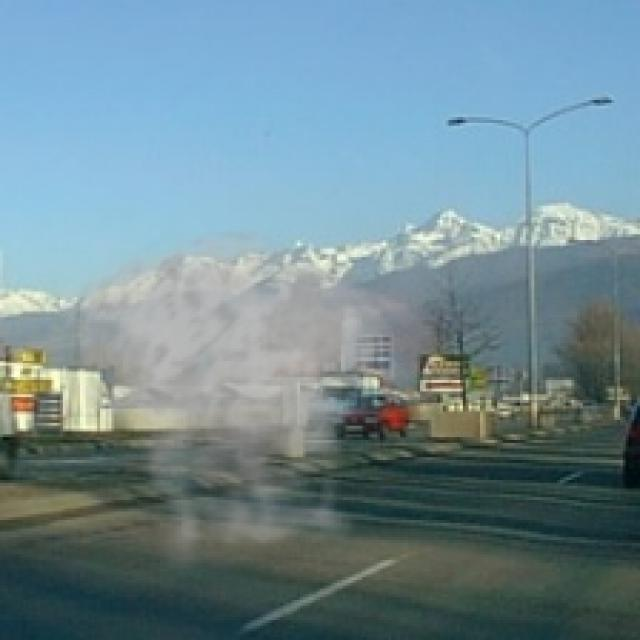Smoke: (54, 228, 423, 578)
